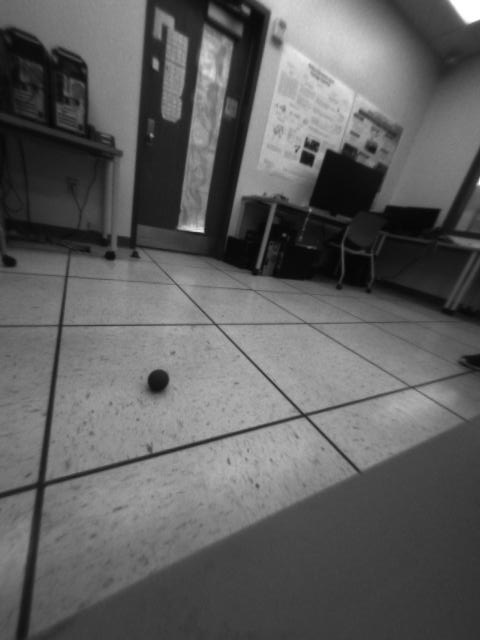dogtoy: (143, 363, 174, 398)
